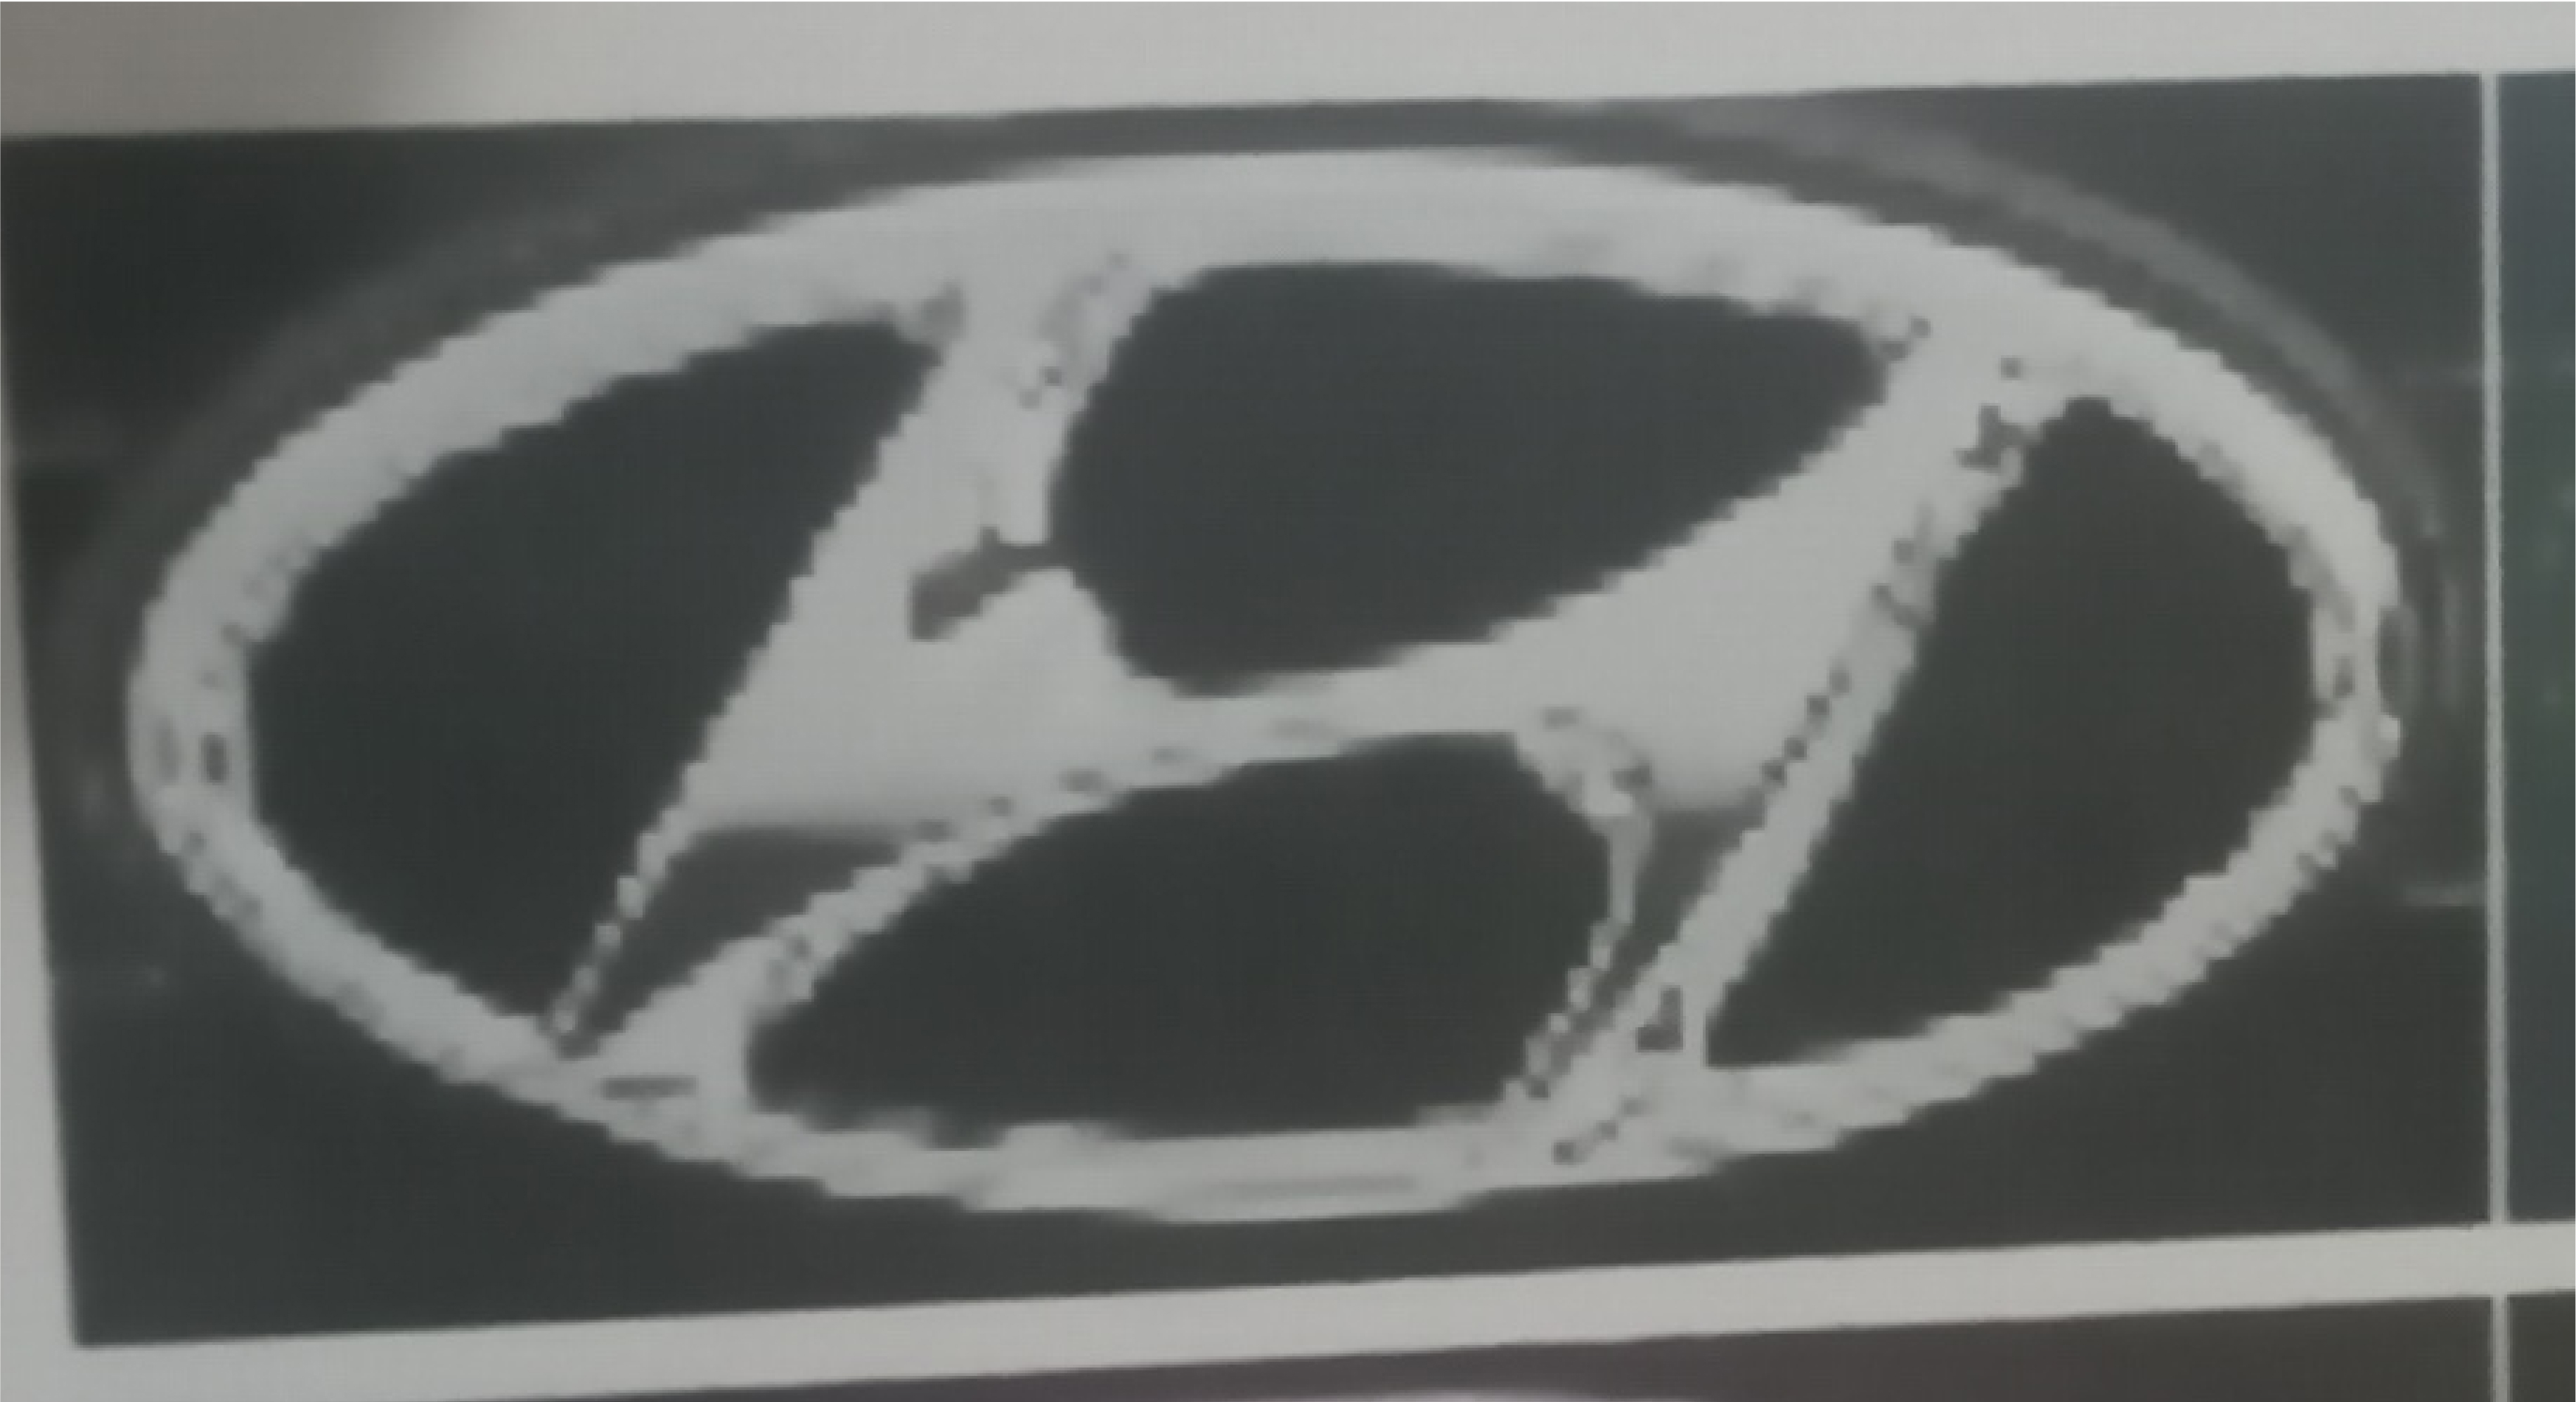Hyundai: (71, 98, 2466, 1248)
